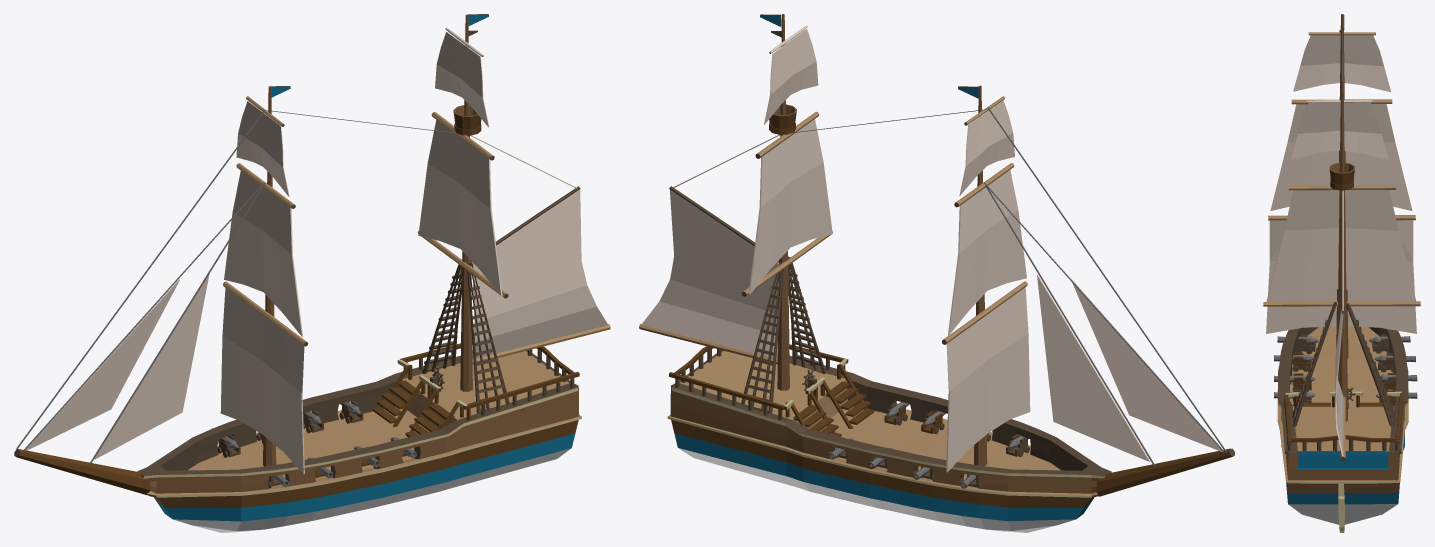
File: Brig_Blue.fbx
3 renders of one model, left to right at view 1: azimuth 30°, elevation 25°; view 2: azimuth 150°, elevation 25°; view 3: azimuth 270°, elevation 25°, orthographic. The views are drawn at different scales.
Visible parts, largest first — view 1: polySurface269; view 2: polySurface269; view 3: polySurface269.
Boxes of the visible parts, x1=… form: polySurface269: x1=14, y1=14, x2=610, y2=532; polySurface269: x1=639, y1=14, x2=1234, y2=532; polySurface269: x1=1263, y1=14, x2=1420, y2=532.
Bounding box in the file's own units: 34.9 × 25.77 × 8.81.
1 material, 1 textured.
